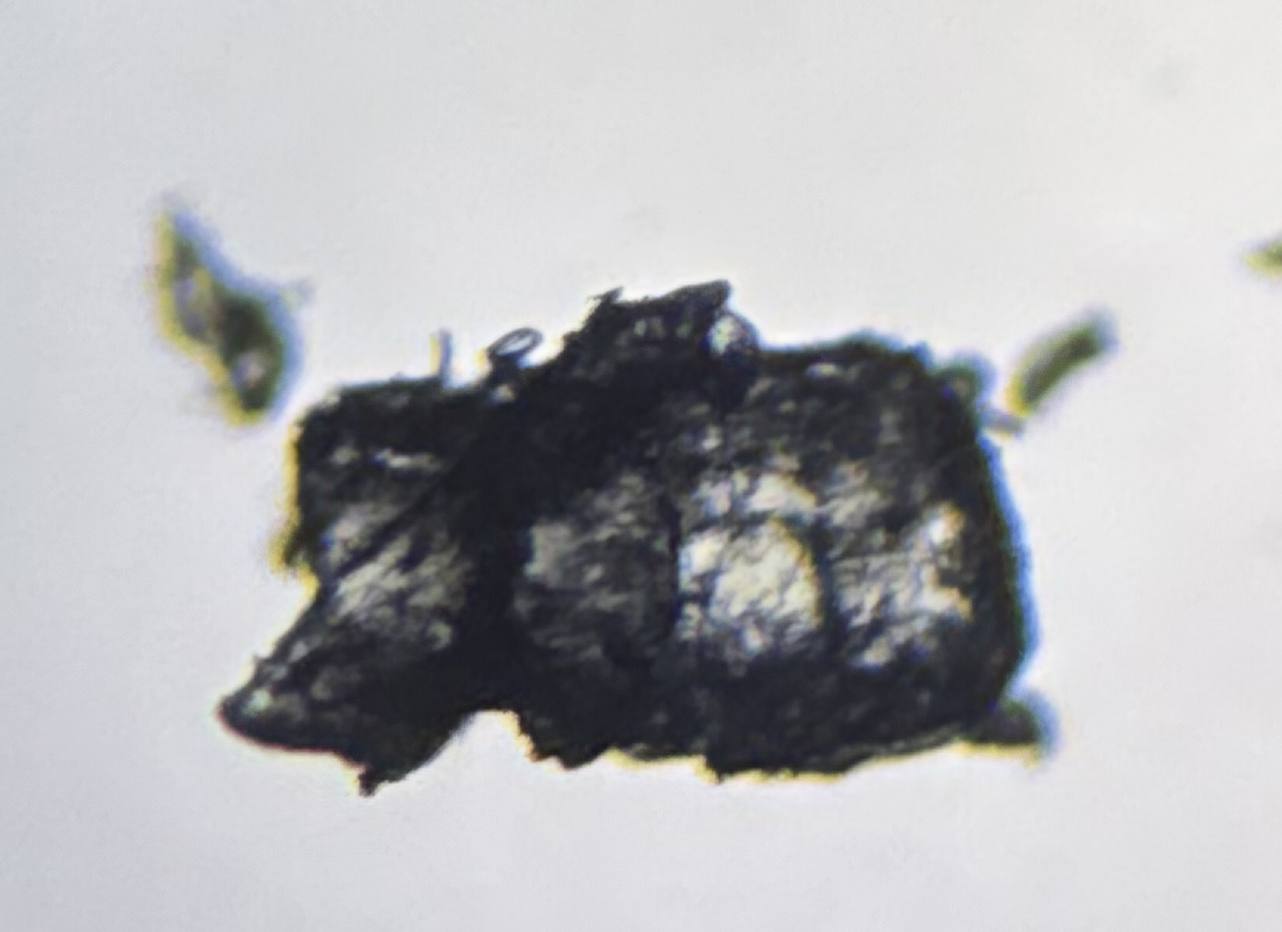microplastic: (282, 328, 1042, 791), (212, 280, 764, 798), (165, 221, 292, 417), (1023, 331, 1099, 411), (1271, 246, 1282, 266)
